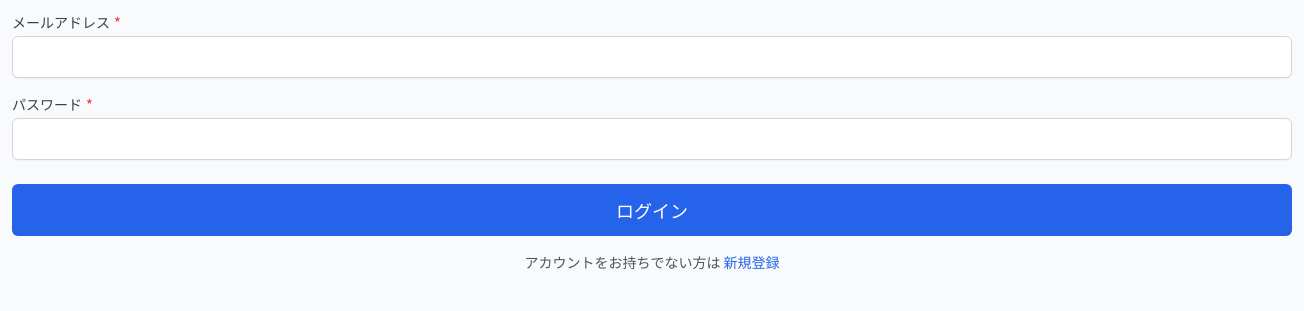
Test: LoginForm › パスワードが7文字以下のときエラーが表示される（Requirement 2.7）
The image size is (1304, 311).
Type "user@example.com" into the field labelled "メールアドレス*" at (652, 57), box [12, 36, 1292, 78]
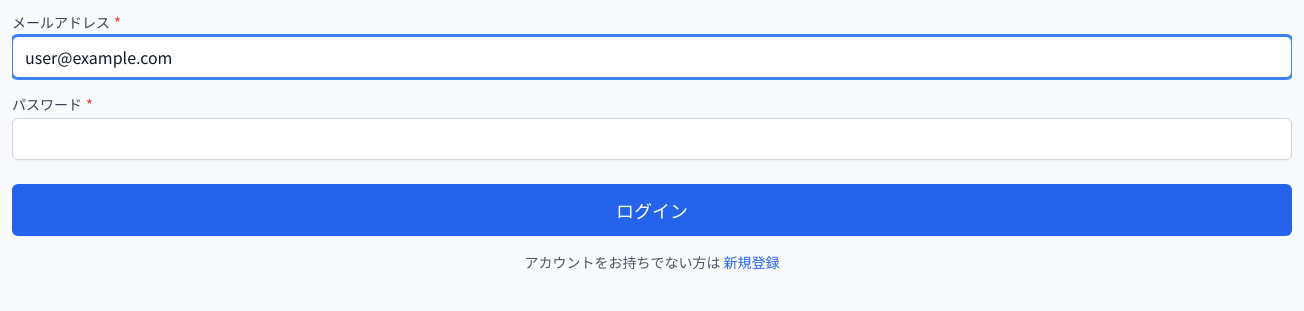
Type "1234567" into the password field labelled "パスワード*" at (652, 139), box [12, 118, 1292, 160]
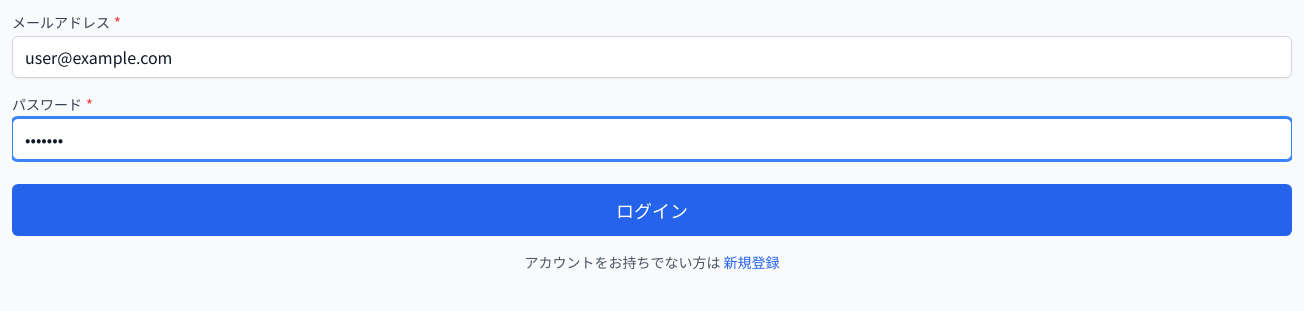
Click the button "ログイン" at (652, 210), box [12, 184, 1292, 236]
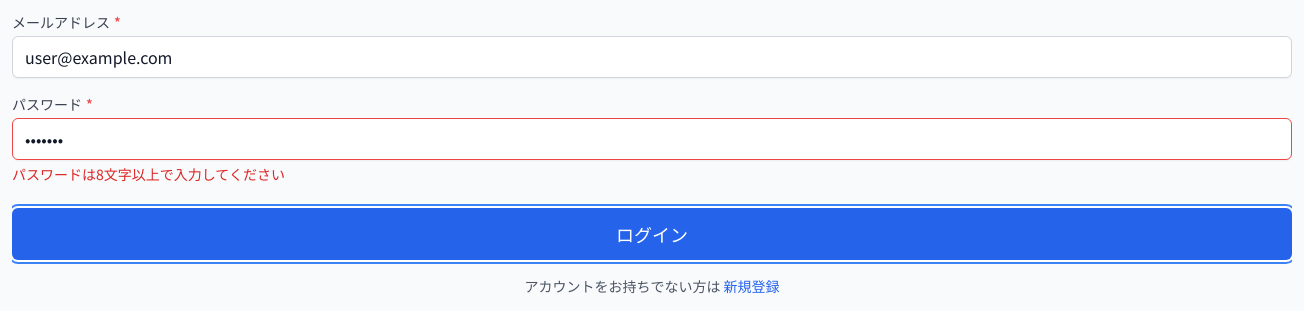
Now the text "パスワードは8文字以上で入力してください" is shown, box [12, 164, 285, 184]
